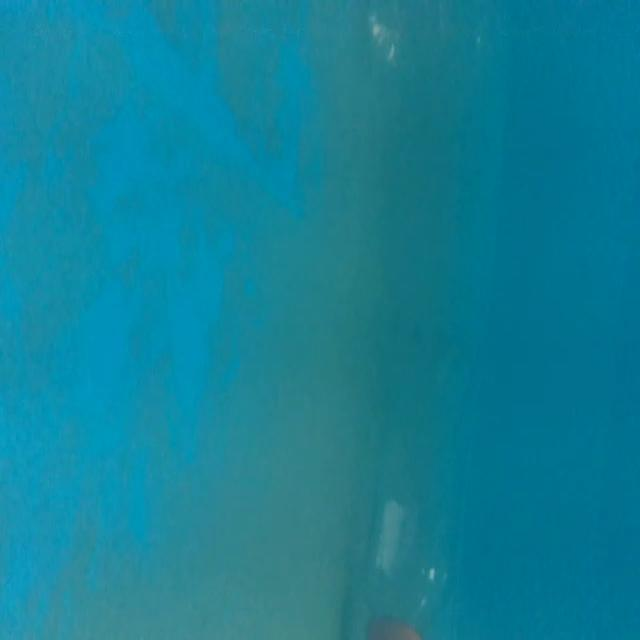plastic bottle: (355, 331, 492, 640), (347, 0, 507, 104)
